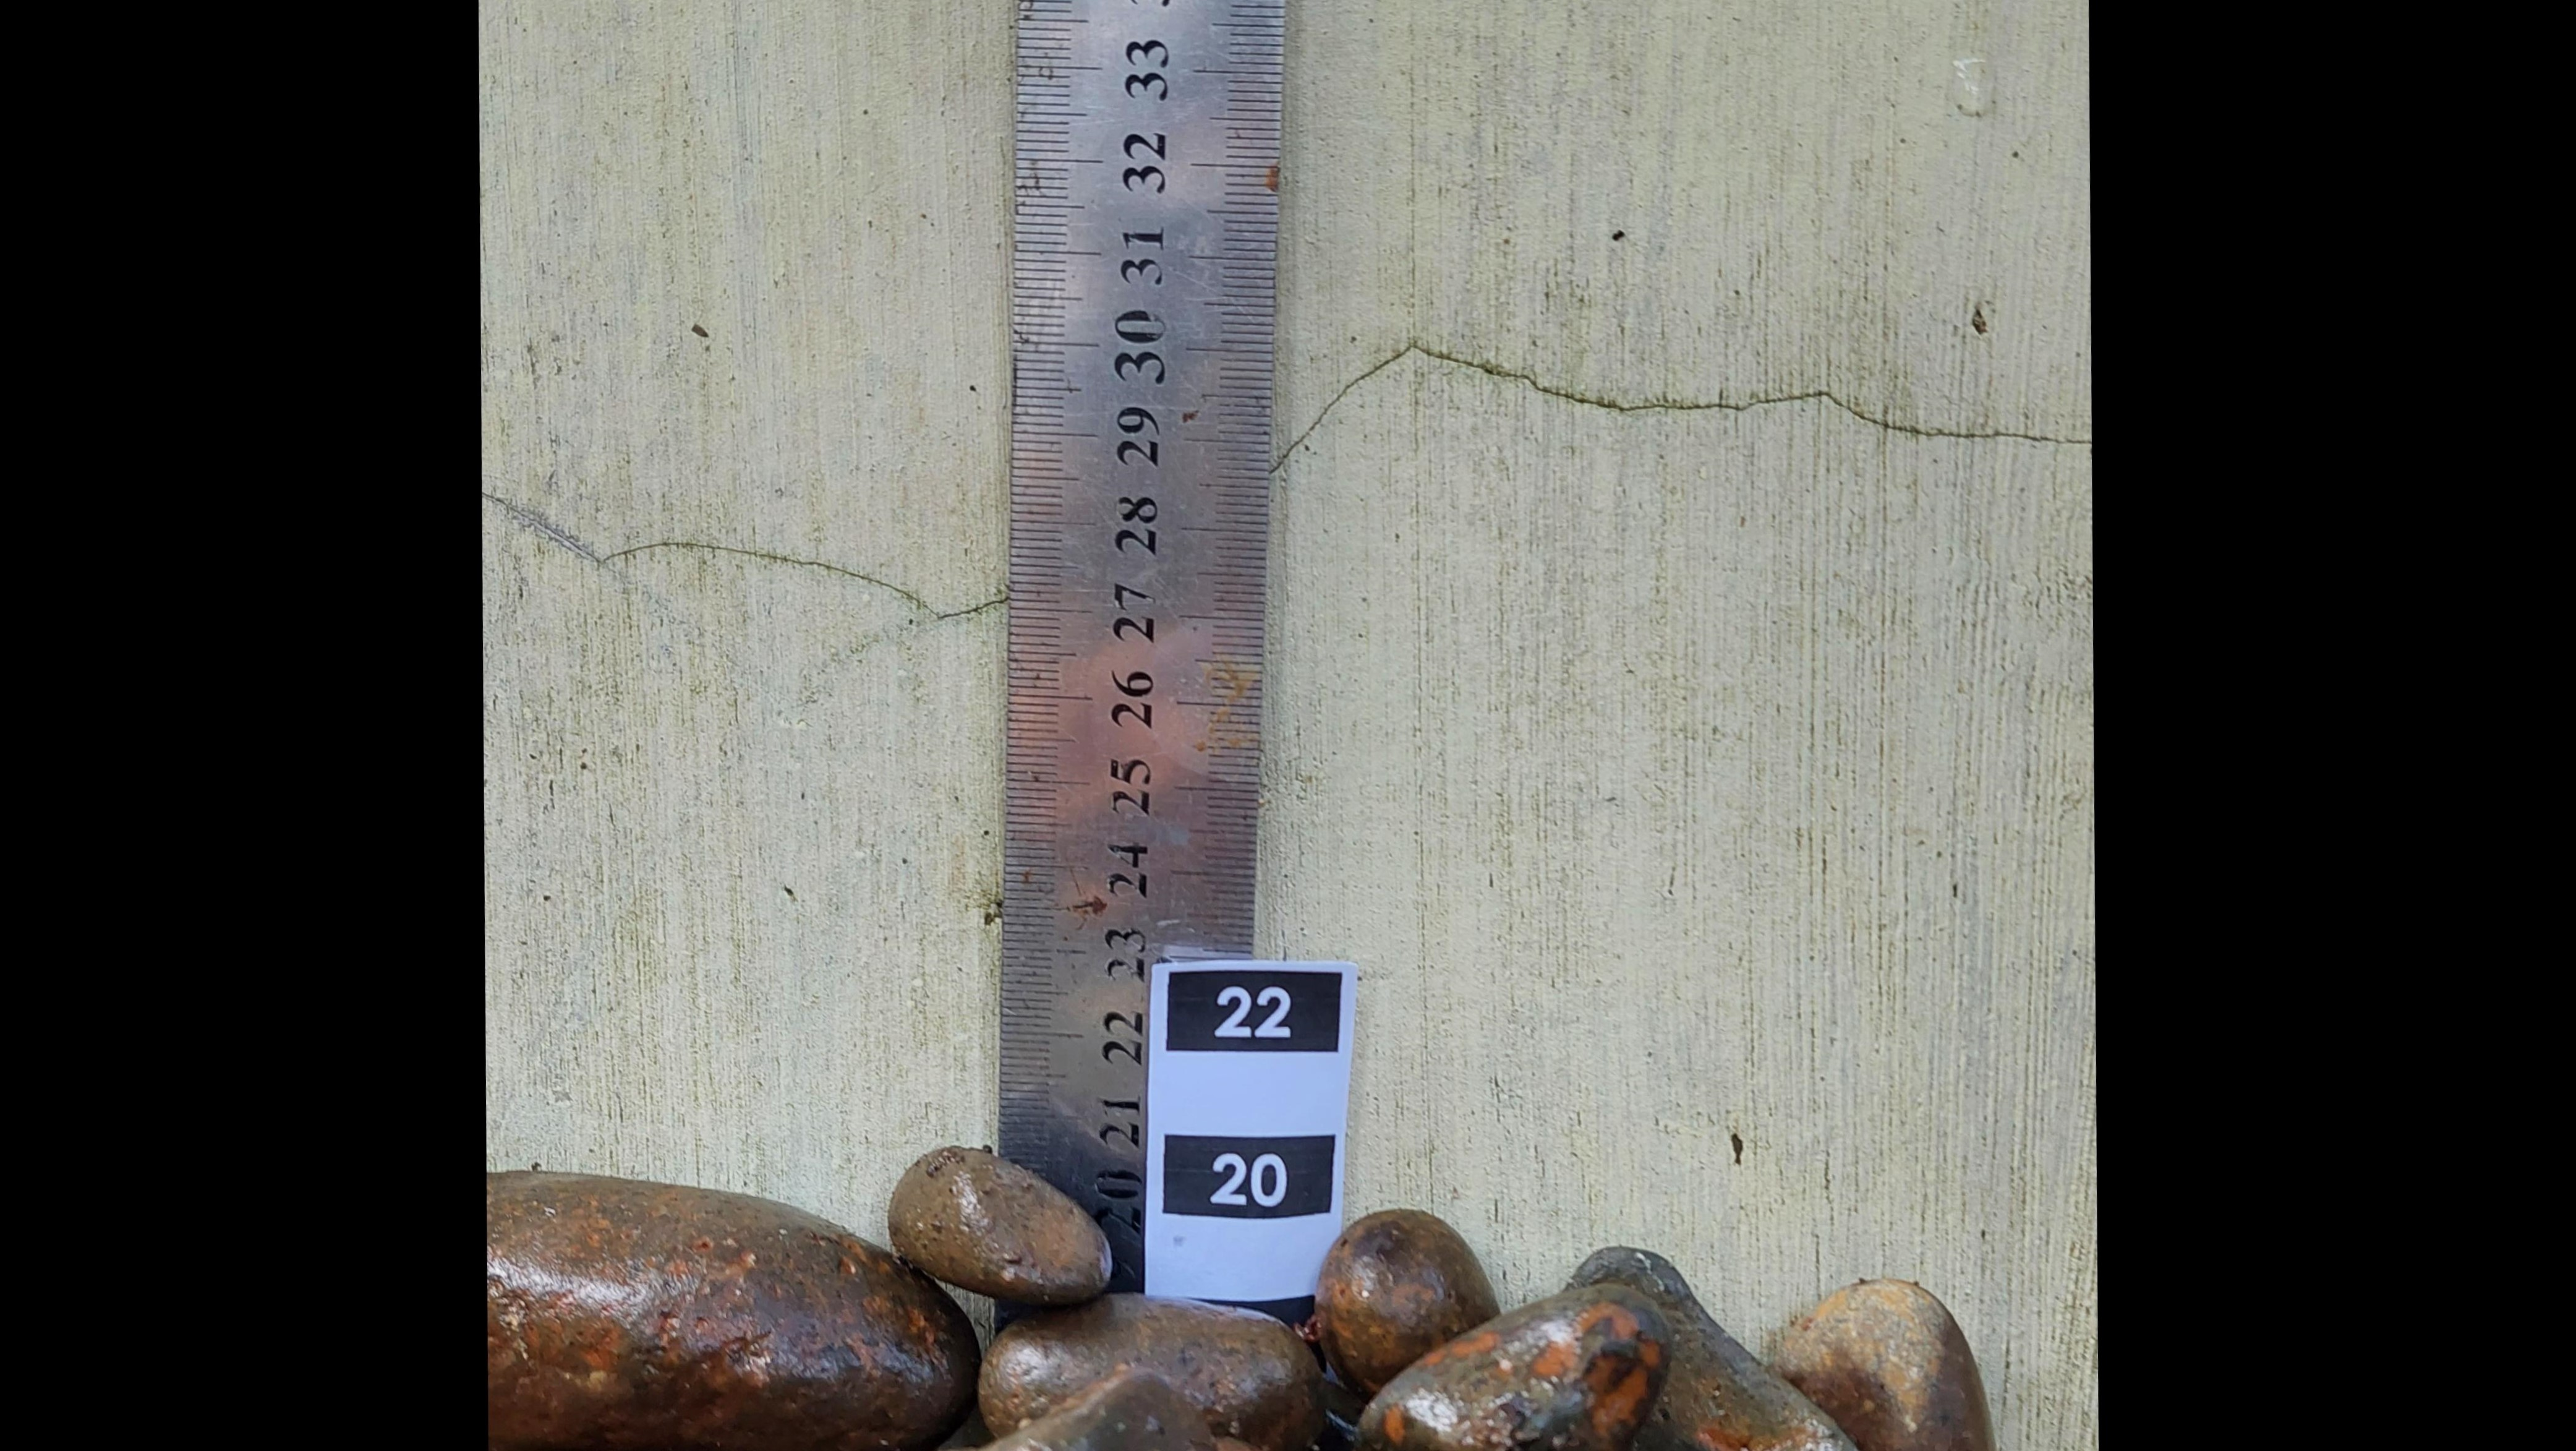kotak_2x1: (1162, 1131, 1332, 1217), (1168, 968, 1345, 1051)
